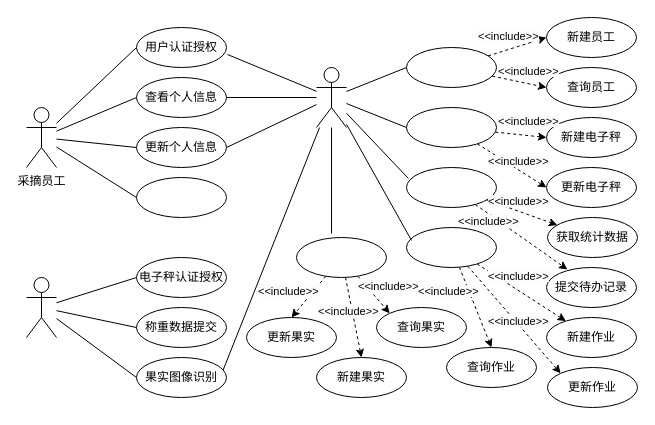
The diagram is 655 pixels wide and 425 high, and some of its shapes have lost their labels. The box of each missing label's shape, as (x1, y1, x2, y2) in pixels:
作业管理: (406, 226, 496, 268)
果实管理: (296, 236, 386, 278)
查看个人产出: (136, 176, 226, 218)
用户管理: (406, 46, 496, 88)
电子秤: (26, 276, 56, 338)
电子秤管理: (406, 106, 496, 148)
称重管理: (406, 166, 496, 208)
管理员: (316, 66, 346, 128)
